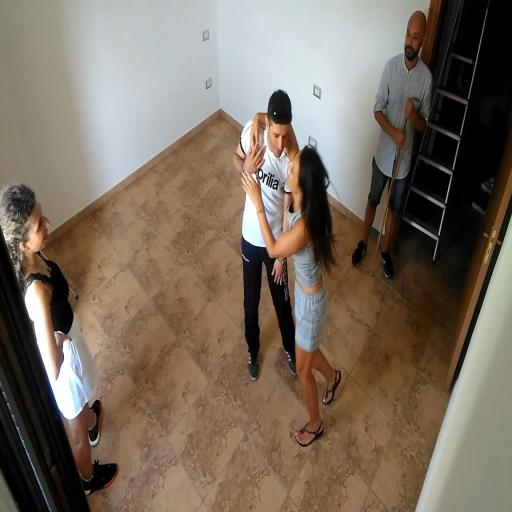nao-violencia: (213, 71, 349, 466)
